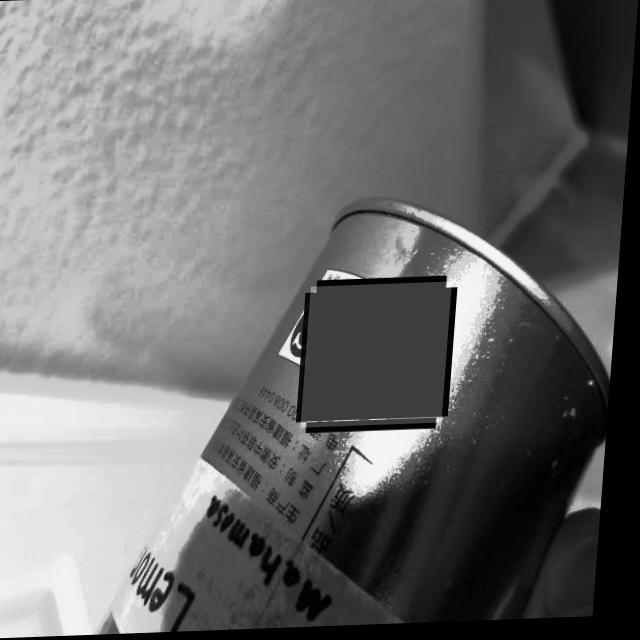qr_code: (307, 284, 457, 429)
